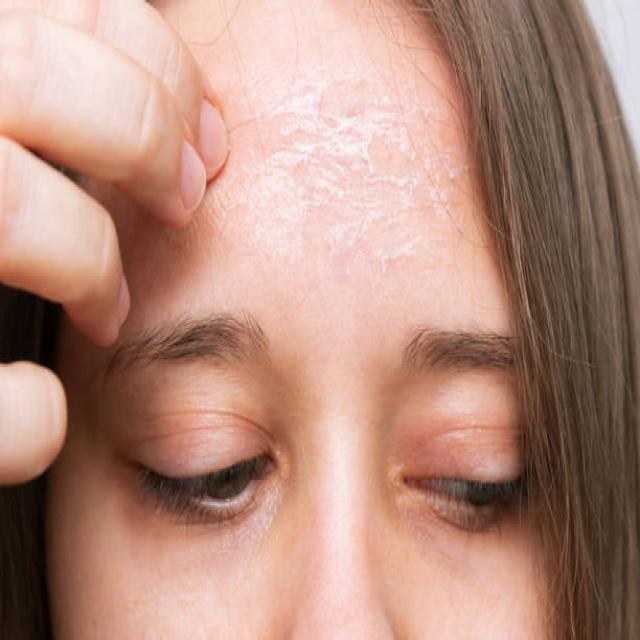dry: (192, 64, 478, 303)
